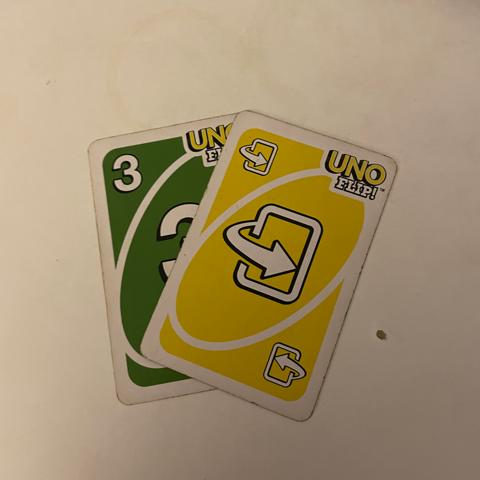5_yellow: (220, 203, 326, 305), (262, 336, 307, 391), (237, 137, 279, 179)
9_yellow: (108, 153, 148, 195)
